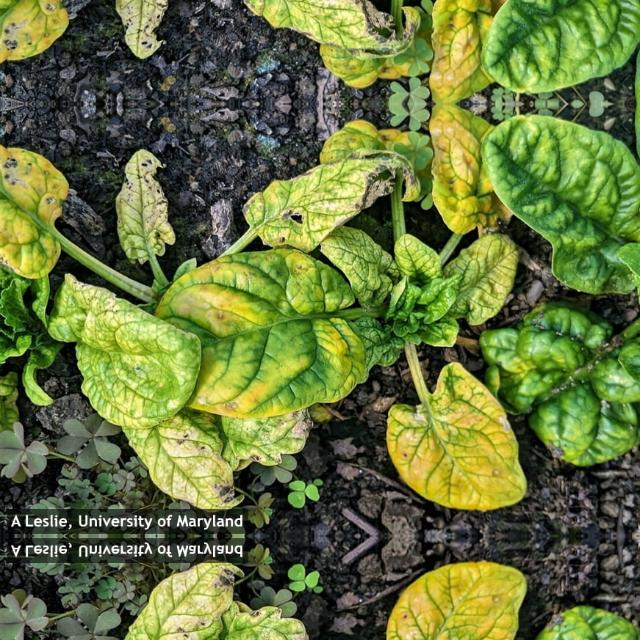lettuce mosaic virus: (21, 198, 632, 462), (20, 609, 631, 640), (20, 0, 631, 7)
